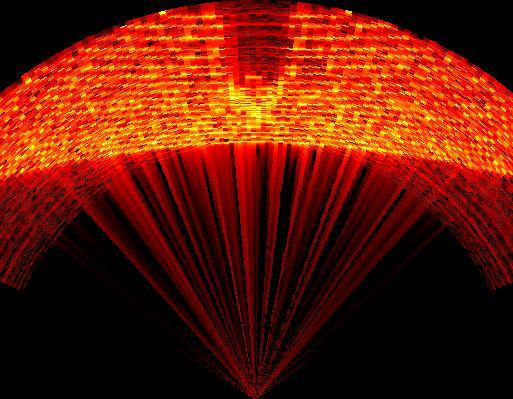box_crate: (218, 3, 295, 103)
